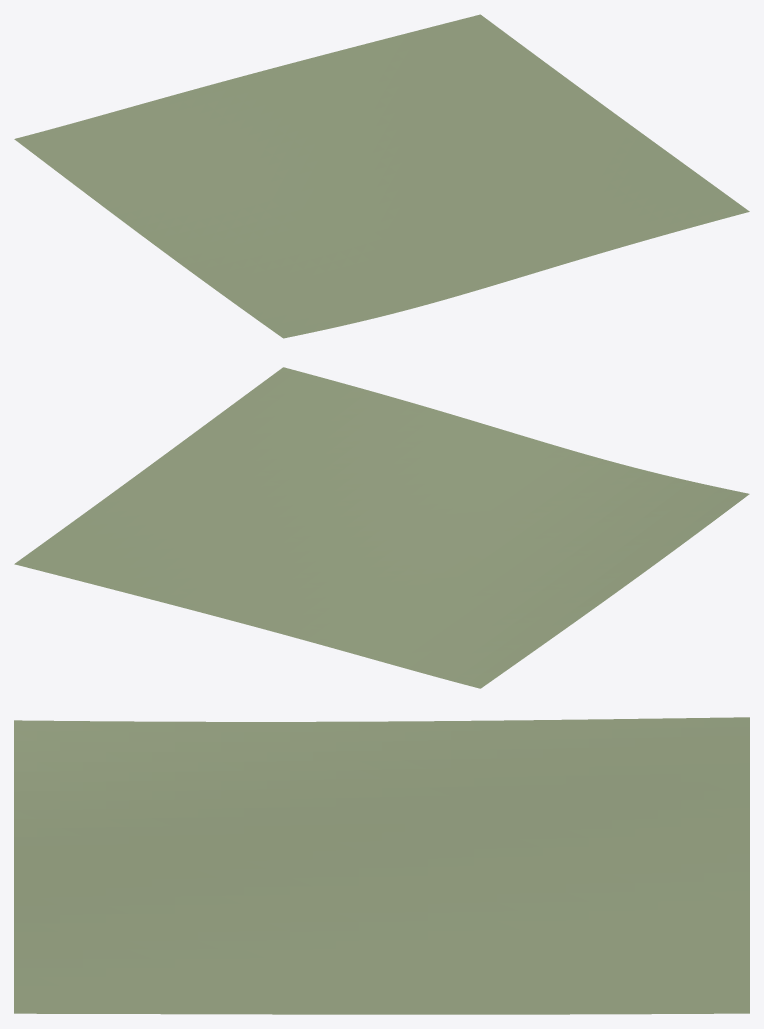
Rendered from desert-9-15.glb.
3 views of the same model, one above another, from view 1: azimuth 30°, elevation 25°; view 2: azimuth 150°, elevation 25°; view 3: azimuth 270°, elevation 25° (orthographic). The views are drawn at different scales.
Parts seen in each view (by area): view 1: desert-9-15; view 2: desert-9-15; view 3: desert-9-15.
Boxes of the visible parts, left/top/right/bottom form: desert-9-15: left=14, top=14, right=749, bottom=338; desert-9-15: left=14, top=367, right=749, bottom=688; desert-9-15: left=14, top=717, right=749, bottom=1014.
Bounding box in the file's own units: 512 × 15.86 × 512.
